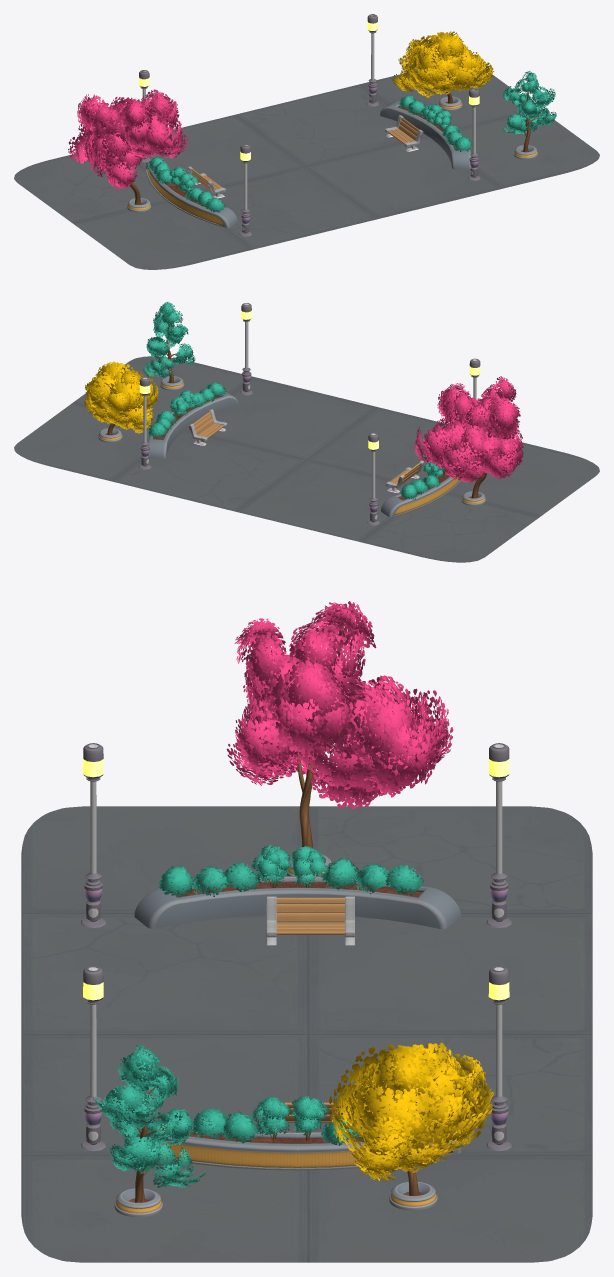
File: plaza.glb
3 views of the same model, one above another, from view 1: azimuth 30°, elevation 25°; view 2: azimuth 150°, elevation 25°; view 3: azimuth 270°, elevation 25° (orthographic). The views are drawn at different scales.
Parts seen in each view (by area): view 1: Plano, Tree.001, TreeGreen.001, TreeYellow.001, BaseTree.001, Lamp_LOD0.002, BenchStreet.001; view 2: Plano, Tree.001, TreeGreen.001, BaseTree.001, TreeYellow.001, Lamp_LOD0.002, BenchStreet.001; view 3: Plano, Tree.001, TreeGreen.001, BaseTree.001, TreeYellow.001, Lamp_LOD0.002, BenchStreet.001.
Boxes of the visible parts, x1,y1,x2,y2 form: Plano: (14,72,599,269); Tree.001: (68,89,188,189); TreeGreen.001: (100,71,556,212); TreeYellow.001: (391,31,493,97); BaseTree.001: (127,96,537,227); Lamp_LOD0.002: (139,14,480,236); BenchStreet.001: (188,115,423,198); Plano: (14,356,599,562); Tree.001: (414,376,523,482); TreeGreen.001: (107,301,497,499); BaseTree.001: (98,376,485,517); TreeYellow.001: (84,361,158,433); Lamp_LOD0.002: (139,303,480,525); BenchStreet.001: (188,409,424,493); Plano: (21,806,592,1262); Tree.001: (226,601,453,808); TreeGreen.001: (93,624,423,1202); BaseTree.001: (114,854,461,1217); TreeYellow.001: (329,1042,494,1181); Lamp_LOD0.002: (81,743,511,1151); BenchStreet.001: (266,896,354,1131).
Size of what is drawn, in the model's own units: 28.86 by 7.56 by 15.26.
9 materials, 8 textured.
